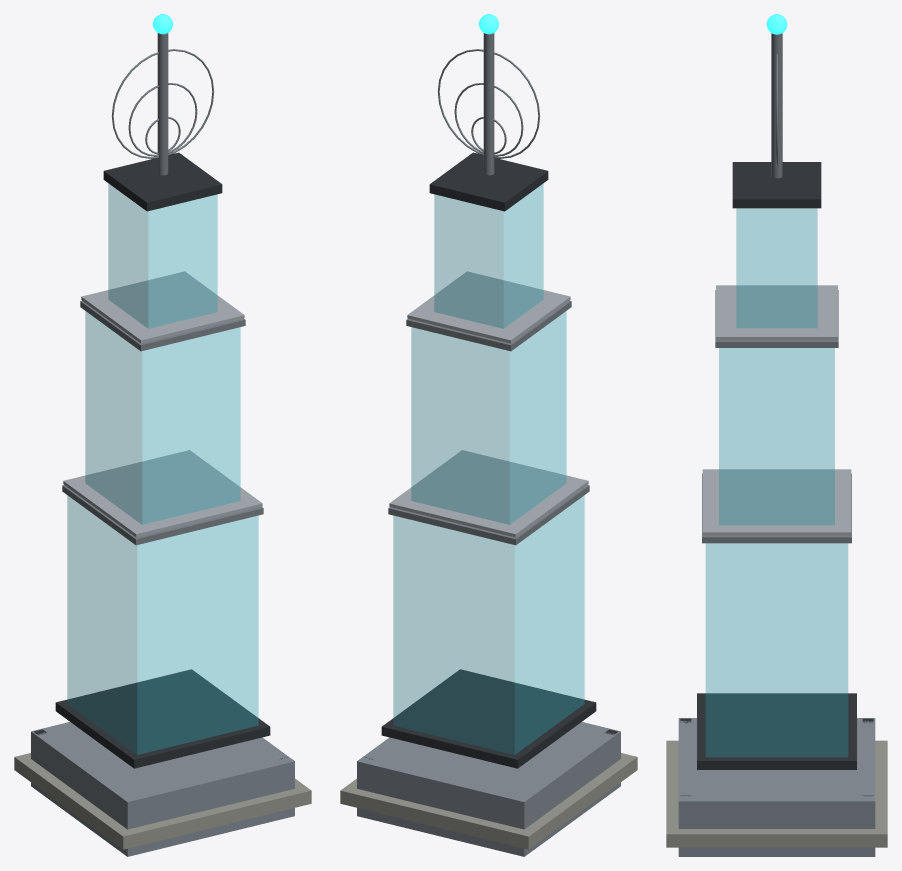
File: tower-api.glb
3 views of the same model, side by side, from view 1: azimuth 30°, elevation 25°; view 2: azimuth 150°, elevation 25°; view 3: azimuth 270°, elevation 25° (orthographic).
Parts seen in each view (by area): view 1: tower-api; view 2: tower-api; view 3: tower-api.
Part boxes in pixels (x1,y1,x2,y2): tower-api: (14, 14, 311, 856); tower-api: (340, 14, 637, 856); tower-api: (666, 14, 887, 856).
Size of the model in its own units: 18 by 71.75 by 18.
